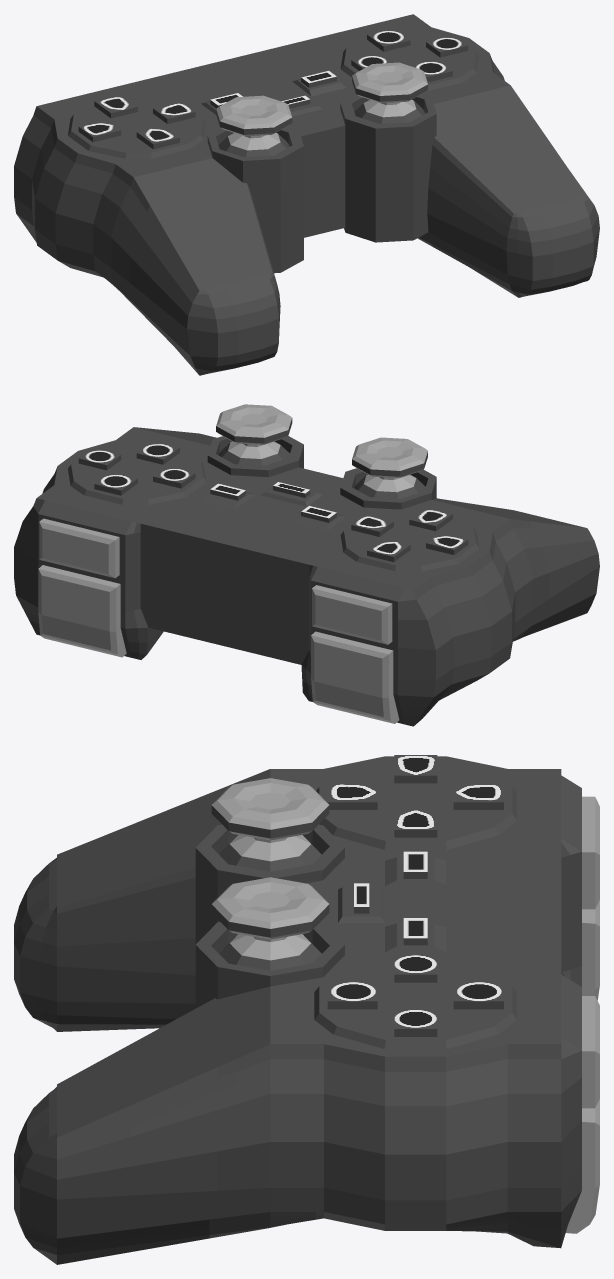
File: Control 1.glb
The picture shows the model from 3 angles, top to bottom: view 1: azimuth 30°, elevation 25°; view 2: azimuth 150°, elevation 25°; view 3: azimuth 270°, elevation 25°; orthographic projection. The views are drawn at different scales.
Parts seen in each view (by area): view 1: Cube; view 2: Cube; view 3: Cube.
Boxes of the visible parts, bbox=[...] form: Cube: bbox=[14, 14, 599, 375]; Cube: bbox=[14, 404, 599, 726]; Cube: bbox=[14, 755, 599, 1264].
Bounding box in the file's own units: 0.2711 × 0.1045 × 0.2015.
Materials: 1 (1 with a texture image).
